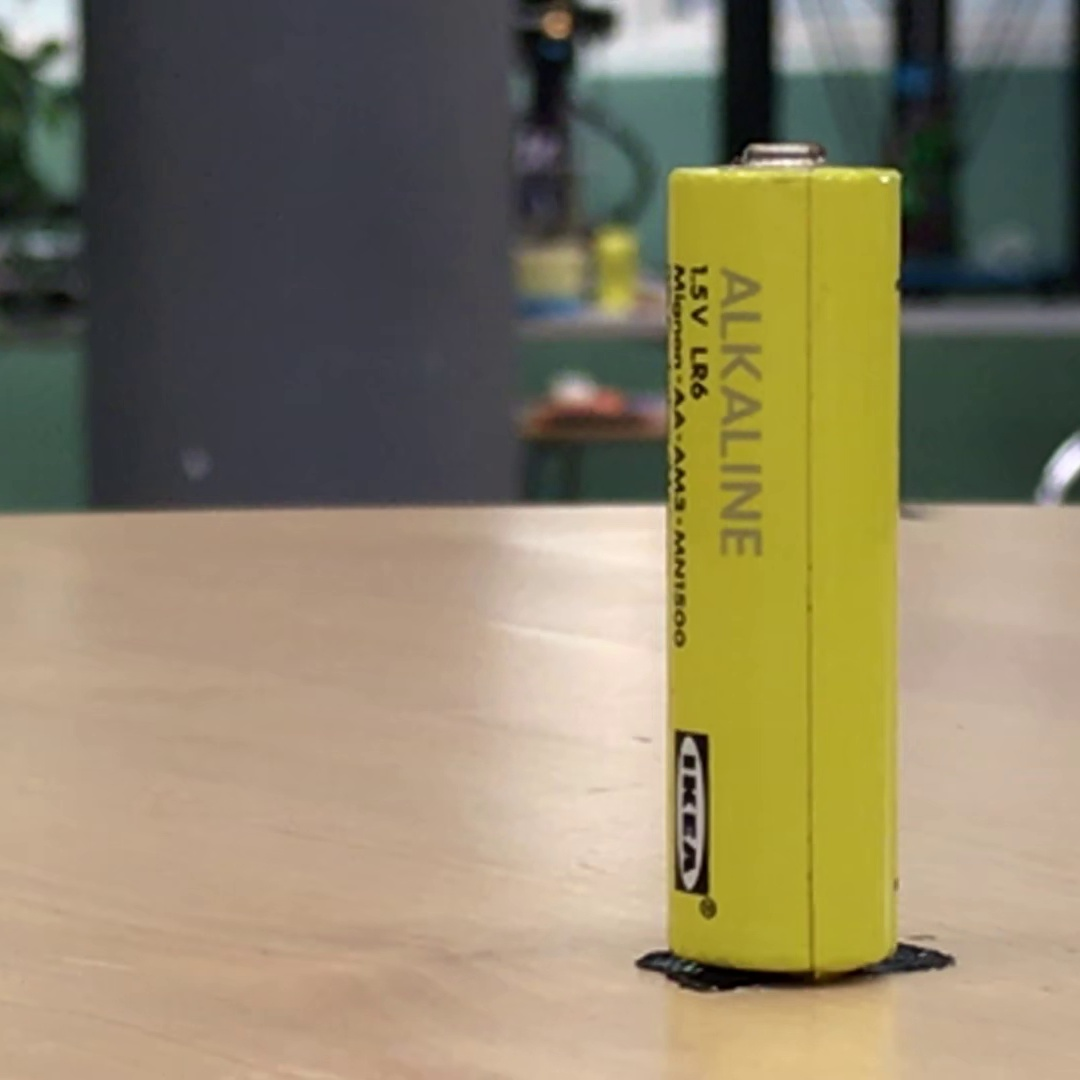keyword: (713, 261, 768, 379)
